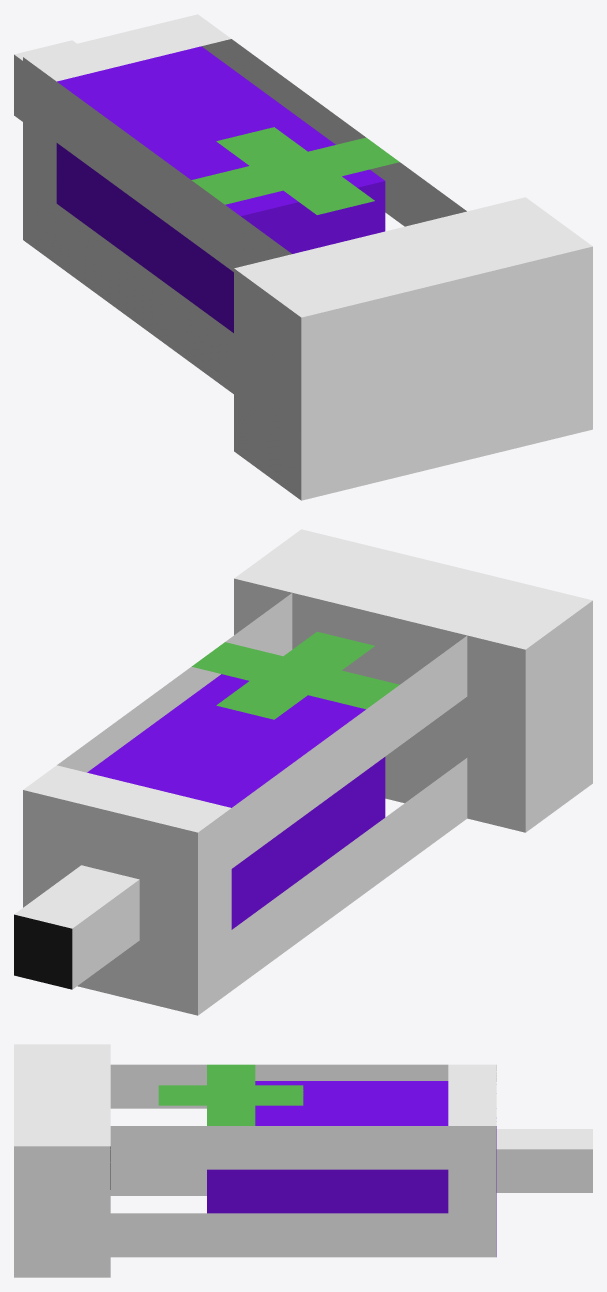
The model's file is Syringe.fbx.
The picture shows the model from 3 angles, top to bottom: view 1: azimuth 30°, elevation 25°; view 2: azimuth 150°, elevation 25°; view 3: azimuth 270°, elevation 25°; orthographic projection. The views are drawn at different scales.
Parts seen in each view (by area): view 1: cube_2, cube, cube_3, cube_1; view 2: cube, cube_2, cube_3, cube_1; view 3: cube, cube_2, cube_3, cube_1.
Boxes of the visible parts, left/top/right/bottom form: cube_2: left=234, top=197, right=592, bottom=500; cube: left=23, top=14, right=466, bottom=393; cube_3: left=56, top=46, right=385, bottom=332; cube_1: left=14, top=40, right=76, bottom=121; cube: left=23, top=593, right=467, bottom=1015; cube_2: left=234, top=529, right=592, bottom=832; cube_3: left=87, top=674, right=385, bottom=929; cube_1: left=14, top=865, right=139, bottom=989; cube: left=110, top=1064, right=496, bottom=1257; cube_2: left=14, top=1044, right=110, bottom=1277; cube_3: left=207, top=1081, right=496, bottom=1213; cube_1: left=496, top=1129, right=592, bottom=1192.
Size of the model in its own units: 31.25 by 18.75 by 75.
1 material, 1 textured.
